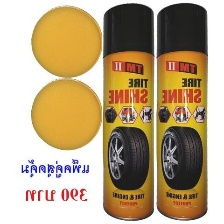aerosol_cans: (153, 0, 213, 222), (98, 0, 156, 222)
